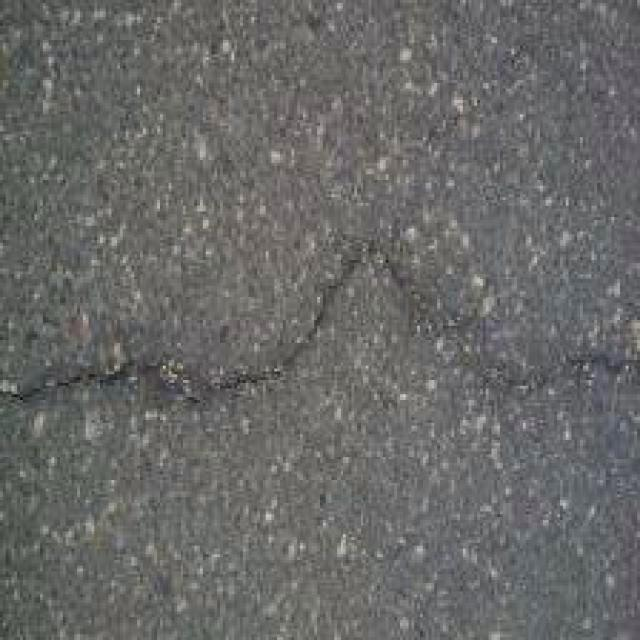SurfaceCrack: (10, 208, 640, 464)
